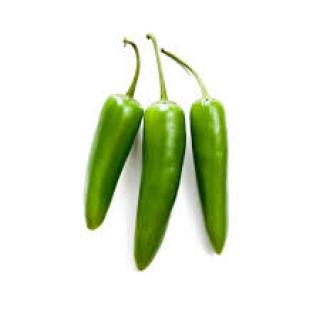Cabai Hijau: (134, 100, 187, 274), (83, 94, 144, 232), (190, 86, 234, 257)
